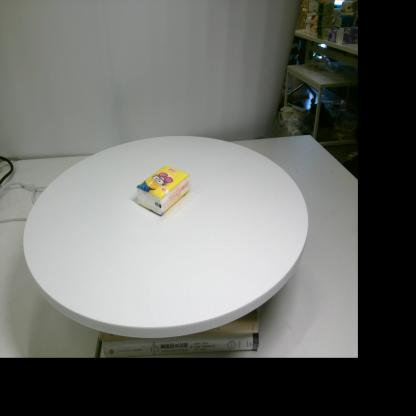Tissue: (136, 166, 191, 216)
